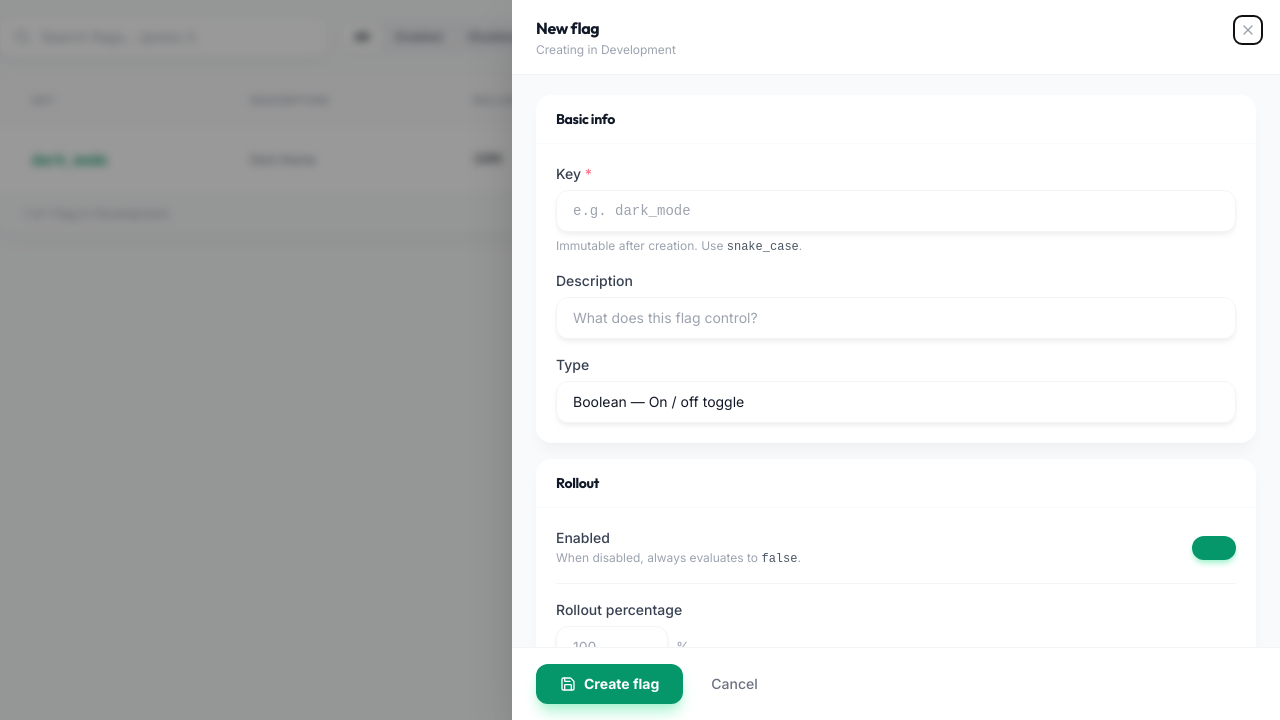
Test: FlagList flag panel › adds the created flag to the list and closes the panel
In the field with placeholder "e.g. dark_mode": [896, 211] box [556,190,1236,232], type "new_flag"
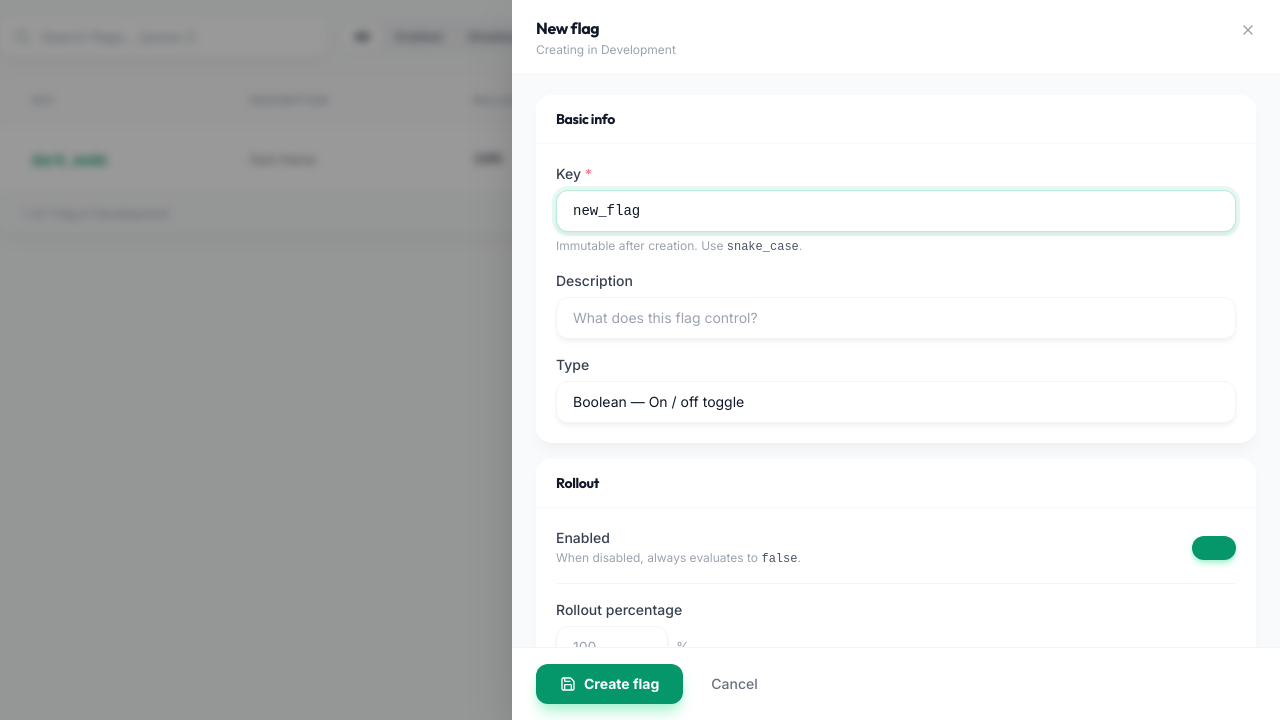
Click the button "Create flag": [610, 684] box [536,664,683,704]
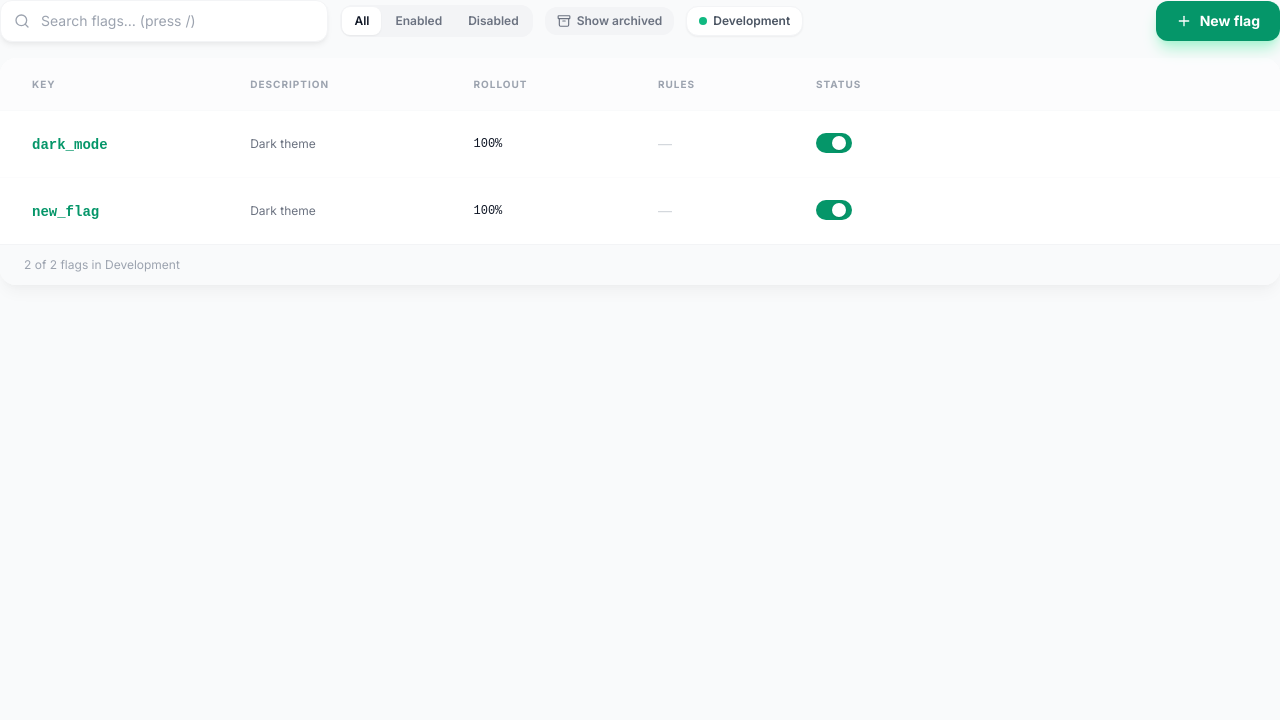
Expected: the dialog is gone
Expected: the text "new_flag" is shown, [32,204,99,220]
